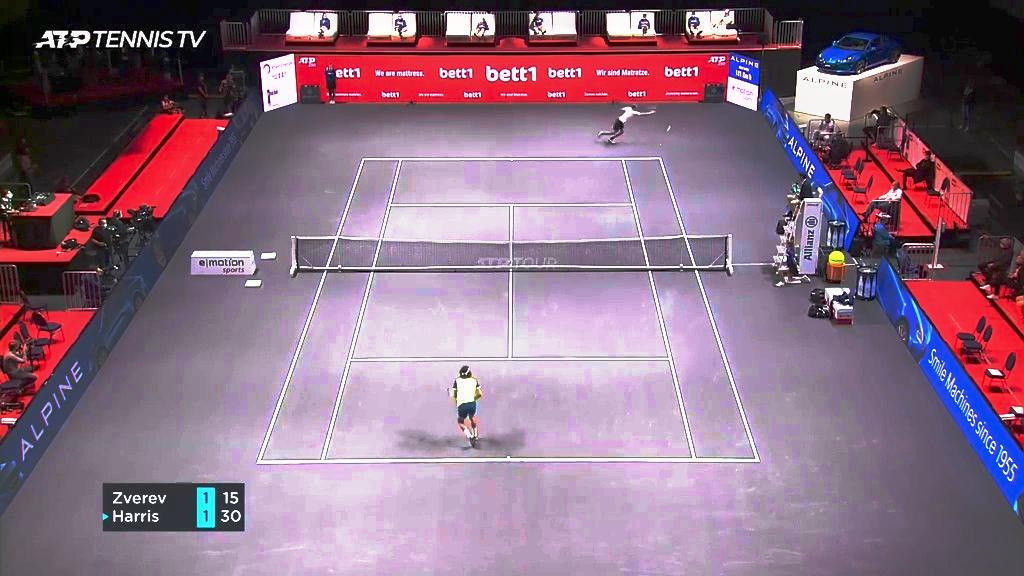tennis-court: (256, 157, 761, 464)
